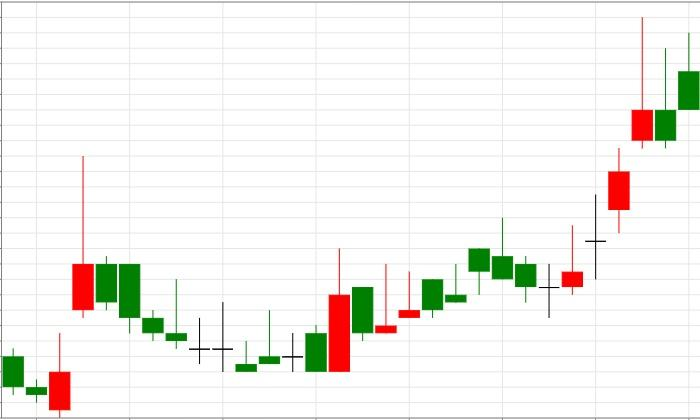shooting_star_fall: (539, 16, 676, 318), (539, 17, 654, 318)
